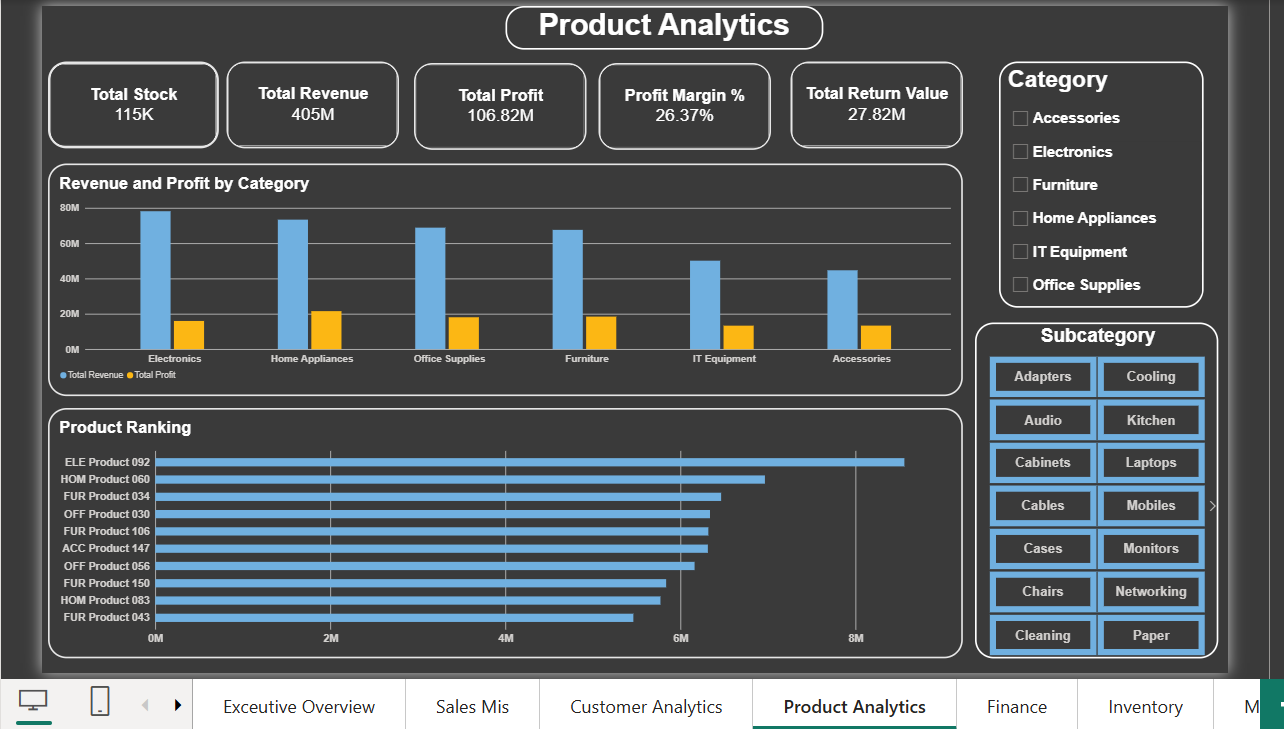

Layout of this report page (visuals, bound fields, positions):
{"tool":"powerbi","page":{"name":"Product Analytics","canvas":[1920,1080],"ordinal":3},"visuals":[{"type":"cardVisual","fields":{"Data":["Measures (2).Total Stock"]},"box":[9.5,90.7,276.8,140.8],"z":0},{"type":"cardVisual","fields":{"Data":["Measures (2).Total Profit"]},"box":[601.3,93.1,279.2,140.8],"z":1000},{"type":"cardVisual","fields":{"Data":["Measures (2).Total Revenue"]},"box":[298.2,90.7,279.2,140.8],"z":2000},{"type":"cardVisual","fields":{"Data":["Measures (2).Total Return Value"]},"box":[1212,90.7,279.2,140.8],"z":3000},{"type":"cardVisual","fields":{"Data":["Measures (2).Profit Margin %"]},"box":[901.9,93.1,279.2,140.8],"z":4000},{"type":"clusteredBarChart","title":"Product Ranking","fields":{"Y":["Measures (2).Total Revenue"],"Category":["Product.Product_Name"]},"box":[9.5,651.4,1481.7,405.6],"z":5000},{"type":"clusteredColumnChart","title":"Revenue and Profit by Category","fields":{"Category":["Product.Category"],"Y":["Measures (2).Total Revenue","Measures (2).Total Profit"]},"box":[9.5,255.3,1481.7,377],"z":6000},{"type":"slicer","title":"Category","fields":{"Values":["Product.Category"]},"box":[1548.5,90.7,331.6,398.4],"z":7000},{"type":"slicer","title":"Subcategory","fields":{"Values":["Product.Subcategory"]},"box":[1510.3,513,393.7,544],"z":8000},{"type":"textbox","box":[750.5,0,514.9,70.4],"z":9000}]}

Visuals, with their boxes on the page's 1920x1080 design canvas (x1, y1, x2, y2). These are canvas units, not pixel positions in the 1284x729 screenshot, which may show the page scaled, cropped or inside an application window:
cardVisual - Measures (2).Total Stock: rect(10, 91, 286, 232)
cardVisual - Measures (2).Total Profit: rect(601, 93, 880, 234)
cardVisual - Measures (2).Total Revenue: rect(298, 91, 577, 232)
cardVisual - Measures (2).Total Return Value: rect(1212, 91, 1491, 232)
cardVisual - Measures (2).Profit Margin %: rect(902, 93, 1181, 234)
"Product Ranking" clusteredBarChart: rect(10, 651, 1491, 1057)
"Revenue and Profit by Category" clusteredColumnChart: rect(10, 255, 1491, 632)
"Category" slicer: rect(1548, 91, 1880, 489)
"Subcategory" slicer: rect(1510, 513, 1904, 1057)
textbox: rect(750, 0, 1265, 70)
